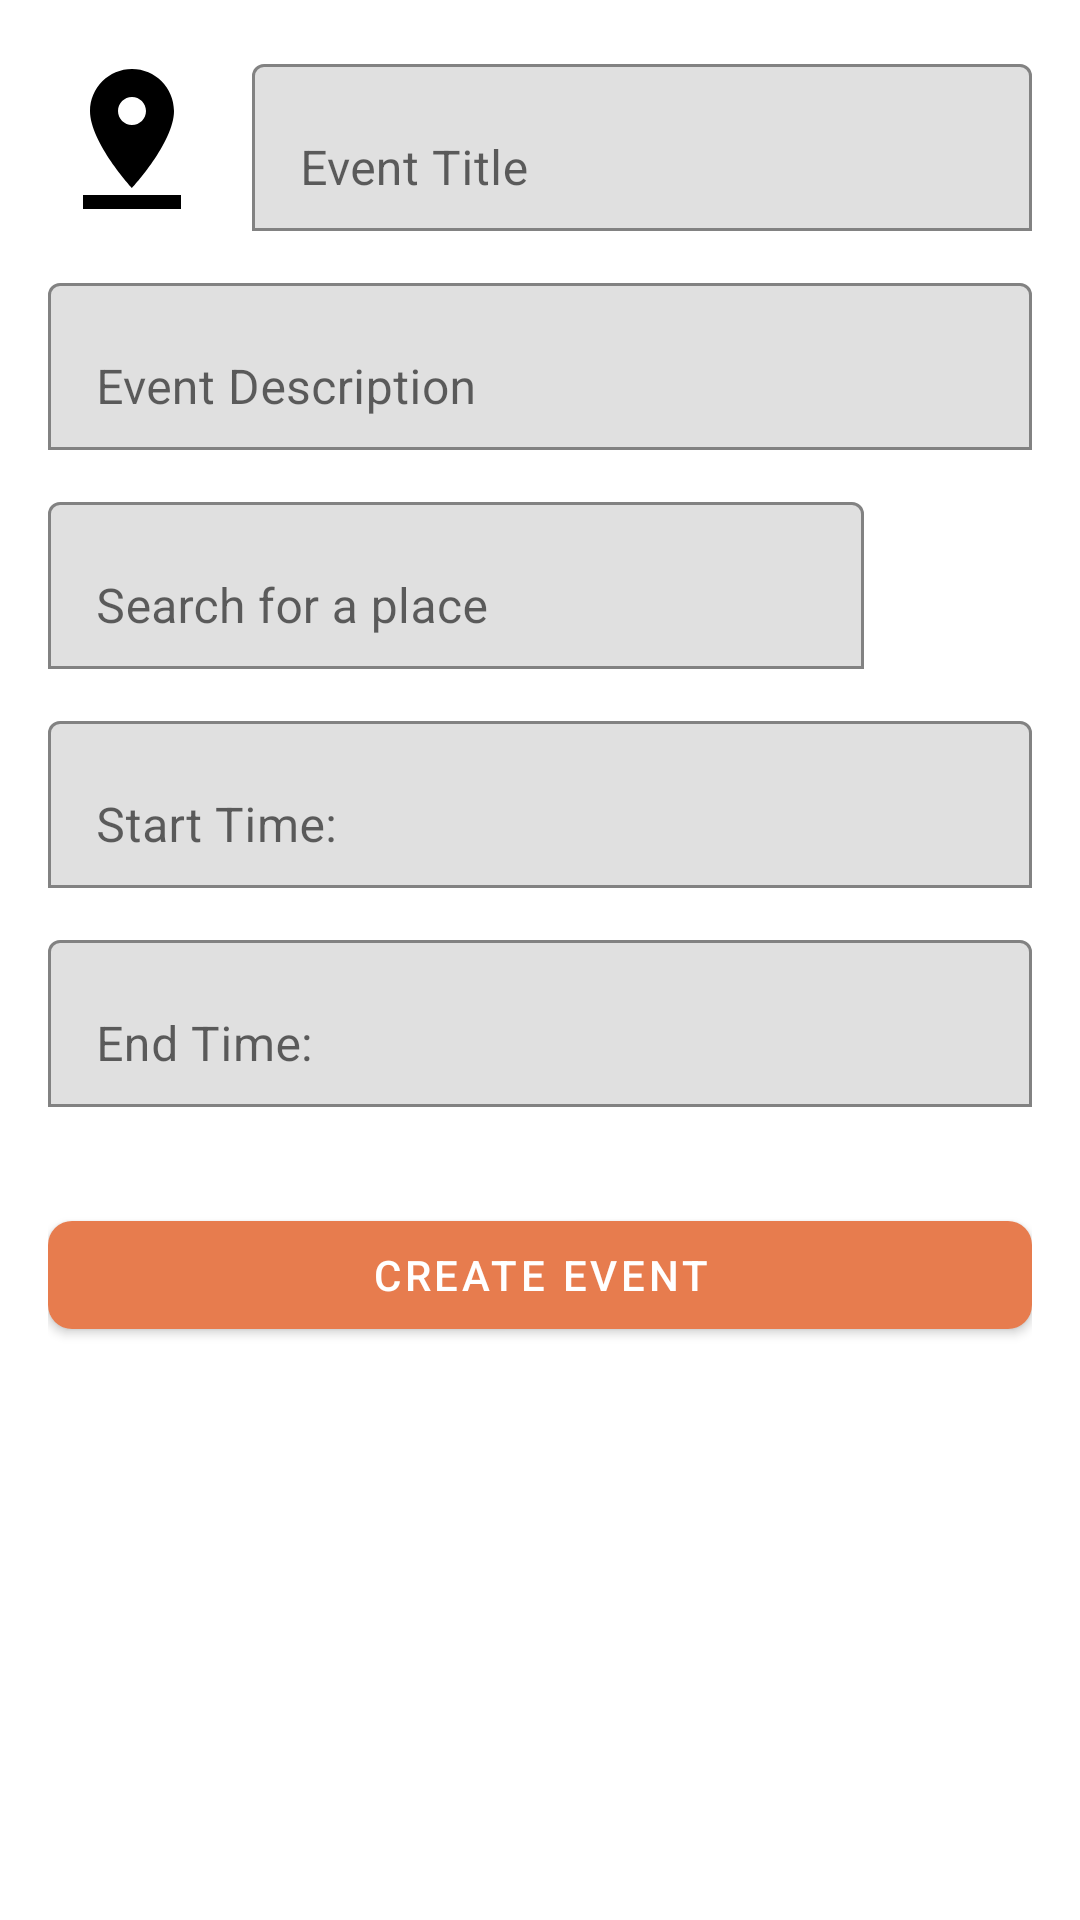

Point at icon controls on the screen. Image size 1080 × 1920, points as [x,y].
An icon to represent the event: [132,139]
